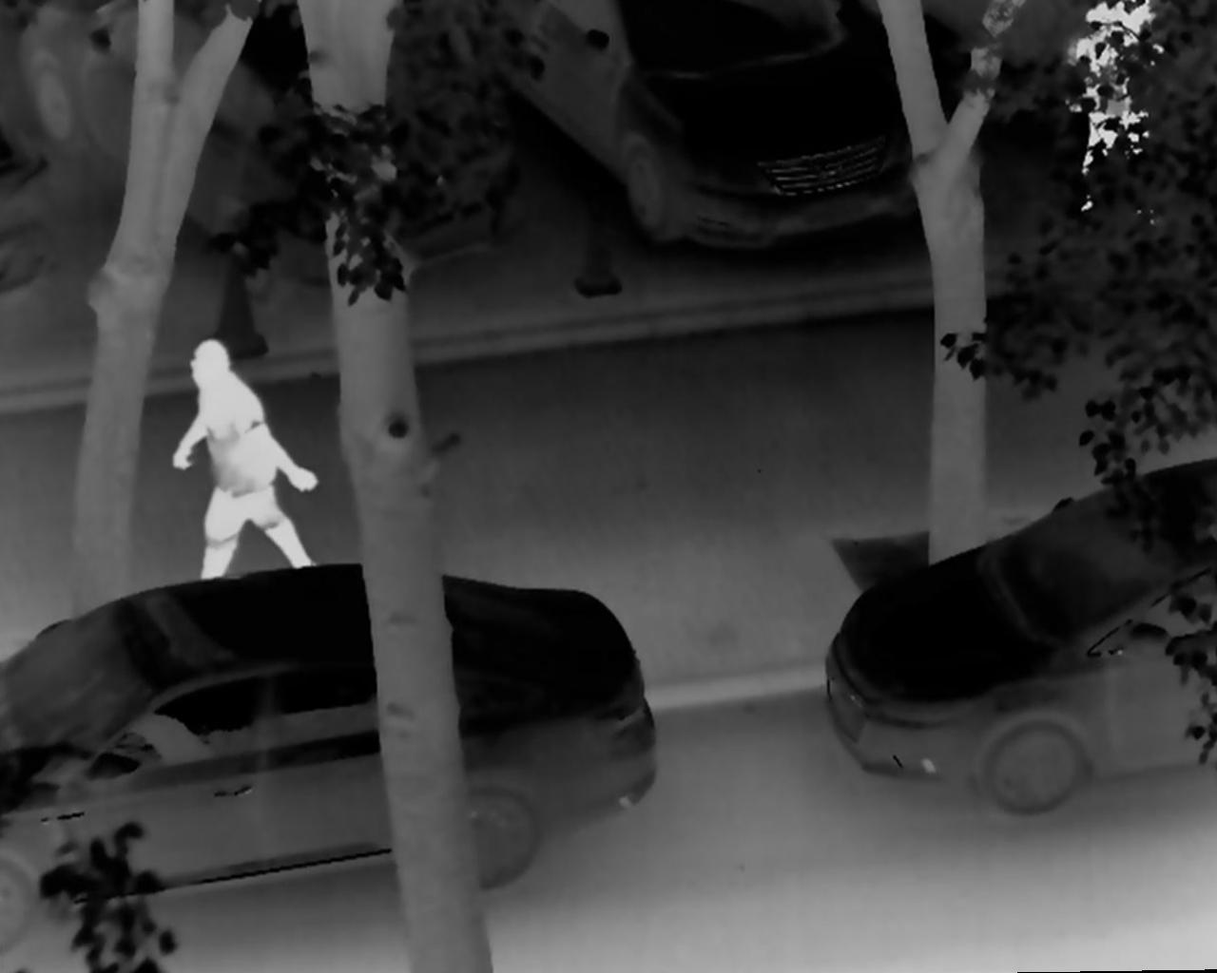person: (157, 336, 319, 582)
